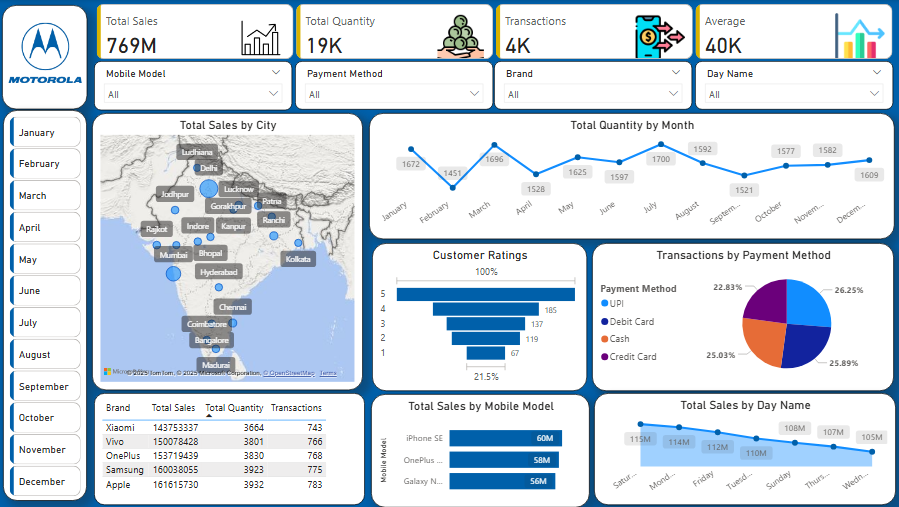

This screenshot's page, from the dashboard's own definition file:
{"tool":"powerbi","page":{"name":"Page 1","canvas":[1280,720],"ordinal":0},"visuals":[{"type":"shape","box":[5.5,6.9,120.8,148.2],"z":0},{"type":"image","box":[9.6,16.5,113.9,116.6],"z":1000},{"type":"shape","box":[6.9,156.4,119.4,554.4],"z":2000},{"type":"advancedSlicerVisual","fields":{"Values":["Sales_Data.Date.Variation.Date Hierarchy.Month"]},"box":[11,160.5,111.1,548.9],"z":3000},{"type":"cardVisual","fields":{"Data":["Sales_Data.Total Sales","Sales_Data.Total Quantity","Sales_Data.Transactions","Sales_Data.Average"]},"box":[134,5.6,1140.1,83.7],"z":4000},{"type":"map","fields":{"Category":["Sales_Data.City"],"Size":["Sales_Data.Total Sales"]},"box":[132.9,160.8,384.1,393.1],"z":5000},{"type":"lineChart","fields":{"Y":["Sales_Data.Total Quantity"],"Category":["Sales_Data.Date.Variation.Date Hierarchy.Month","Sales_Data.Date.Variation.Date Hierarchy.Day"]},"box":[525.9,160.8,744.8,178.7],"z":6000},{"type":"clusteredBarChart","fields":{"Category":["Sales_Data.Mobile Model"],"Y":["Sales_Data.Total Sales"]},"box":[528.3,558.5,310.1,160.5],"z":7000},{"type":"pieChart","fields":{"Category":["Sales_Data.Payment Method"],"Y":["Sales_Data.Transactions"]},"box":[842.5,344.4,428.1,209.9],"z":8000},{"type":"funnel","title":"Customer Ratings","fields":{"Category":["Sales_Data.Customer Ratings"],"Y":["CountNonNull(Sales_Data.Customer Ratings)"]},"box":[529.7,344.4,304.6,209.9],"z":9000},{"type":"areaChart","fields":{"Category":["Sales_Data.Day Name"],"Y":["Sales_Data.Total Sales"]},"box":[845.3,557.1,428.1,159.2],"z":10000},{"type":"tableEx","fields":{"Values":["Sales_Data.Brand","Sales_Data.Total Sales","Sales_Data.Total Quantity","Sales_Data.Transactions"]},"box":[135.8,557.1,384.2,159.2],"z":11000},{"type":"slicer","fields":{"Values":["Sales_Data.Mobile Model"]},"box":[136.2,87.1,281.4,70.3],"z":12000},{"type":"slicer","fields":{"Values":["Sales_Data.Payment Method"]},"box":[421,87.1,281.4,69.2],"z":13000},{"type":"slicer","fields":{"Values":["Sales_Data.Brand"]},"box":[703.5,87.1,281.4,69.2],"z":14000},{"type":"slicer","fields":{"Values":["Sales_Data.Day Name"]},"box":[988.2,87.1,281.4,69.2],"z":15000}]}

Visuals, with their boxes in screenshot pixels (x1, y1, x2, y2), scaled from the page's 1280x720 canvas onto the 899x507 screenshot:
shape: <box>4,5,89,109</box>
image: <box>7,12,87,94</box>
shape: <box>5,110,89,501</box>
advancedSlicerVisual - Sales_Data.Date.Variation.Date Hierarchy.Month: <box>8,113,86,500</box>
cardVisual - Sales_Data.Total Sales x Sales_Data.Total Quantity: <box>94,4,895,63</box>
map - Sales_Data.City x Sales_Data.Total Sales: <box>93,113,363,390</box>
lineChart - Sales_Data.Total Quantity x Sales_Data.Date.Variation.Date Hierarchy.Month: <box>369,113,892,239</box>
clusteredBarChart - Sales_Data.Mobile Model x Sales_Data.Total Sales: <box>371,393,589,506</box>
pieChart - Sales_Data.Payment Method x Sales_Data.Transactions: <box>592,243,892,390</box>
"Customer Ratings" funnel: <box>372,243,586,390</box>
areaChart - Sales_Data.Day Name x Sales_Data.Total Sales: <box>594,392,894,504</box>
tableEx - Sales_Data.Brand x Sales_Data.Total Sales: <box>95,392,365,504</box>
slicer - Sales_Data.Mobile Model: <box>96,61,293,111</box>
slicer - Sales_Data.Payment Method: <box>296,61,493,110</box>
slicer - Sales_Data.Brand: <box>494,61,692,110</box>
slicer - Sales_Data.Day Name: <box>694,61,892,110</box>
